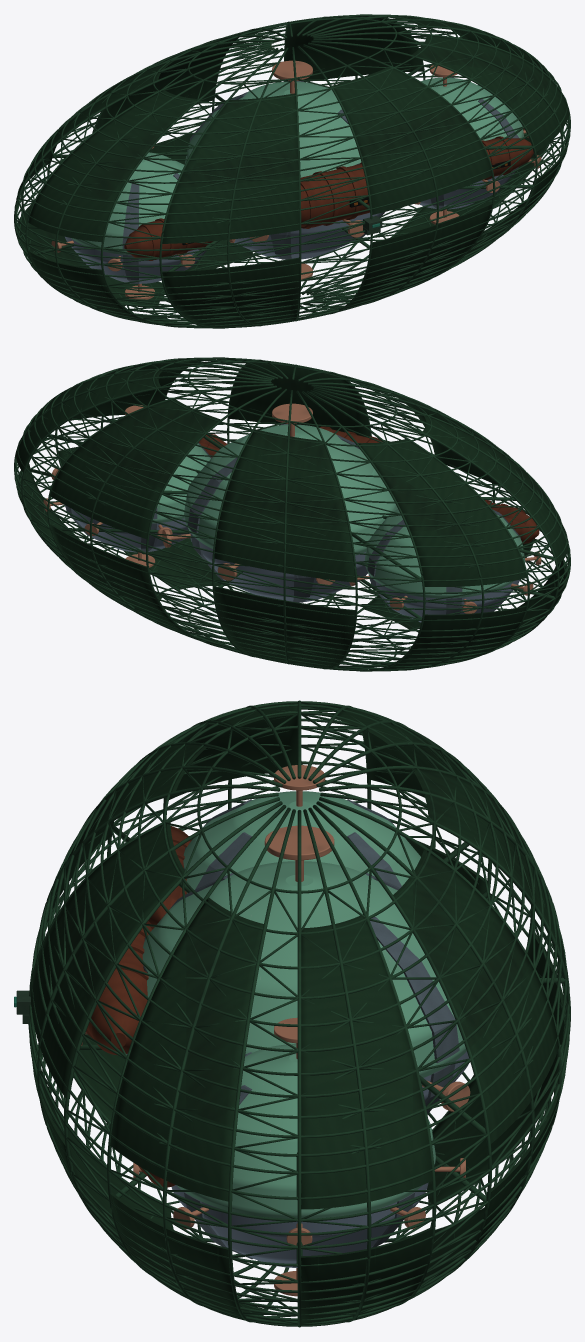
3 renders of one model, top to bottom at view 1: azimuth 30°, elevation 25°; view 2: azimuth 150°, elevation 25°; view 3: azimuth 270°, elevation 25°, orthographic. The views are drawn at different scales.
Parts seen in each view (by area): view 1: MK4C construction horizontal hoops, MK4C construction diagonal lattice, MK4C construction meridian ribs, MK4C temporary green shield 1 5, MK4C temporary green shield 1 6, MK4C temporary green shield 1 4, MK4C temporary green shield -1 5, MK4C temporary green shield 1 7, MK4C temporary green shield 1 1, MK4C temporary green shield -1 6, Na-Xanth green chamber 0, Na-Xanth green chamber 1 (+18 smaller); view 2: MK4C construction horizontal hoops, MK4C construction diagonal lattice, MK4C construction meridian ribs, MK4C temporary green shield 1 2, MK4C temporary green shield 1 3, MK4C temporary green shield 1 1, MK4C temporary green shield -1 2, Na-Xanth green chamber 0, MK4C temporary green shield 1 6, MK4C temporary green shield -1 3, MK4C temporary green shield 1 4, MK4C temporary green shield -1 1 (+17 smaller); view 3: MK4C construction horizontal hoops, MK4C construction meridian ribs, MK4C construction diagonal lattice, MK4C temporary green shield 1 0, MK4C temporary green shield 1 7, MK4C temporary green shield 1 1, Na-Xanth green chamber 0, MK4C temporary green shield 1 6, Na-Xanth green chamber 2, Na-Xanth green chamber 1, MK4C temporary green shield -1 0, MK4C temporary green shield -1 7 (+15 smaller).
Part boxes in pixels (x1,y1,x2,y2): MK4C construction horizontal hoops: (14, 14, 570, 328); MK4C construction diagonal lattice: (15, 16, 569, 327); MK4C construction meridian ribs: (14, 14, 570, 328); MK4C temporary green shield 1 5: (162, 93, 299, 243); MK4C temporary green shield 1 6: (332, 68, 492, 214); MK4C temporary green shield 1 4: (28, 90, 196, 242); MK4C temporary green shield -1 5: (162, 257, 299, 327); MK4C temporary green shield 1 7: (412, 35, 568, 151); MK4C temporary green shield 1 1: (285, 15, 423, 82); MK4C temporary green shield -1 6: (344, 203, 492, 309); Na-Xanth green chamber 0: (185, 81, 361, 177); Na-Xanth green chamber 1: (71, 152, 184, 254); MK4C construction horizontal hoops: (14, 357, 570, 671); MK4C construction diagonal lattice: (15, 359, 569, 670); MK4C construction meridian ribs: (14, 357, 570, 671); MK4C temporary green shield 1 2: (214, 429, 355, 582); MK4C temporary green shield 1 3: (358, 439, 526, 586); MK4C temporary green shield 1 1: (50, 399, 220, 539); MK4C temporary green shield -1 2: (214, 586, 355, 668); Na-Xanth green chamber 0: (184, 424, 397, 555); MK4C temporary green shield 1 6: (228, 361, 369, 436); MK4C temporary green shield -1 3: (381, 605, 526, 670); MK4C temporary green shield 1 4: (422, 415, 568, 564); MK4C temporary green shield -1 1: (50, 523, 193, 637); MK4C construction horizontal hoops: (29, 701, 570, 1326); MK4C construction meridian ribs: (28, 700, 570, 1327); MK4C construction diagonal lattice: (30, 702, 569, 1323); MK4C temporary green shield 1 0: (301, 915, 432, 1209); MK4C temporary green shield 1 7: (110, 897, 263, 1201); MK4C temporary green shield 1 1: (393, 850, 558, 1143); Na-Xanth green chamber 0: (142, 861, 466, 1077); MK4C temporary green shield 1 6: (30, 822, 184, 1098); Na-Xanth green chamber 2: (177, 1044, 435, 1218); Na-Xanth green chamber 1: (183, 791, 420, 893); MK4C temporary green shield -1 0: (301, 1227, 432, 1325); MK4C temporary green shield -1 7: (110, 1192, 263, 1317).
Size of the model in its own units: 7.11 by 3.32 by 3.78.
14 materials, 11 textured.
